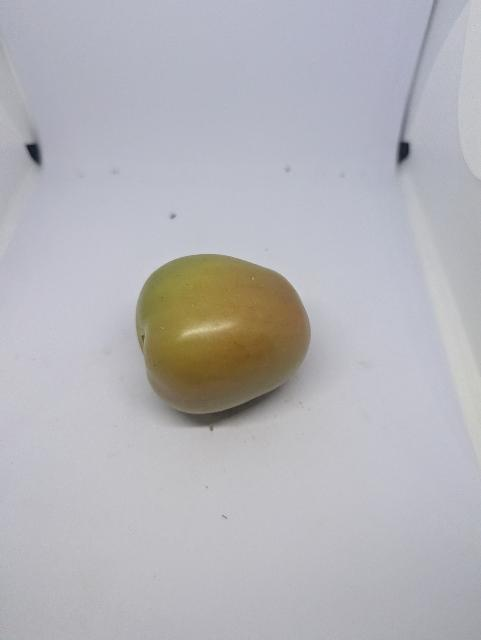breaker: (131, 251, 315, 421)
